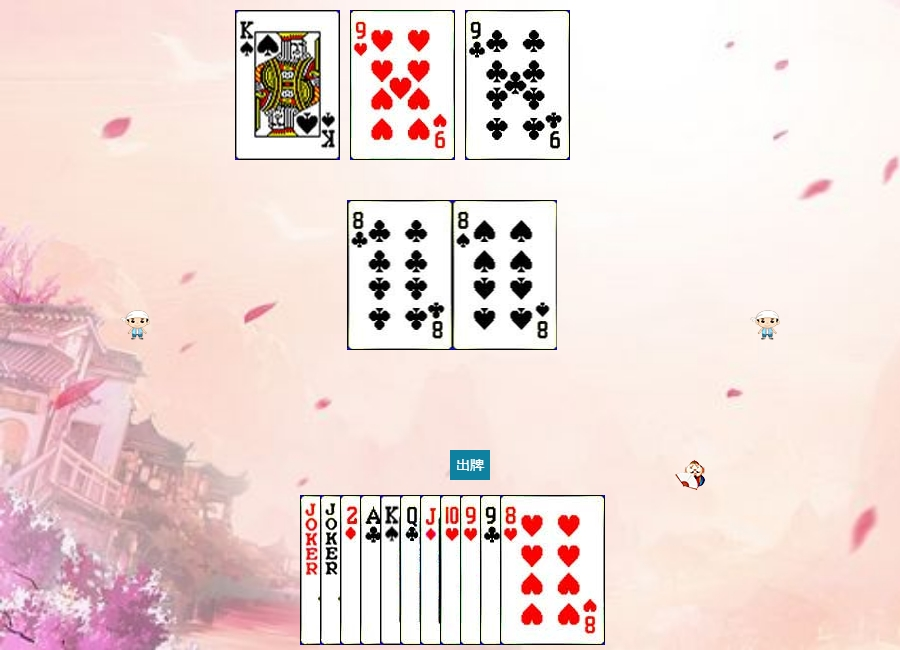10~3: (440, 495, 545, 645)
11~1: (420, 495, 525, 645)
12~2: (400, 495, 505, 645)
13~4: (235, 10, 340, 160), (380, 495, 485, 645)
14~2: (360, 495, 465, 645)
15~1: (340, 495, 445, 645)
17~3: (320, 495, 425, 645)
18~4: (300, 495, 405, 645)
8~2: (348, 200, 453, 350)
8~3: (500, 495, 605, 645)
8~4: (453, 200, 558, 350)
9~2: (465, 10, 570, 160), (480, 495, 585, 645)
9~3: (350, 10, 455, 160), (460, 495, 565, 645)
